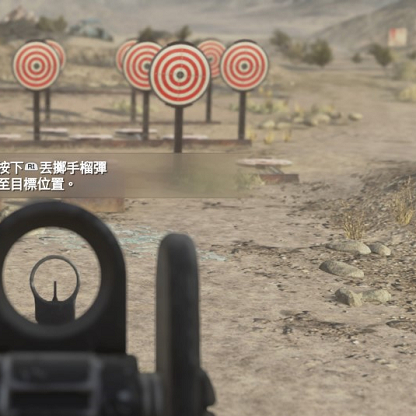target: (149, 42, 211, 107), (219, 40, 269, 92), (12, 41, 60, 90), (122, 41, 147, 90)
